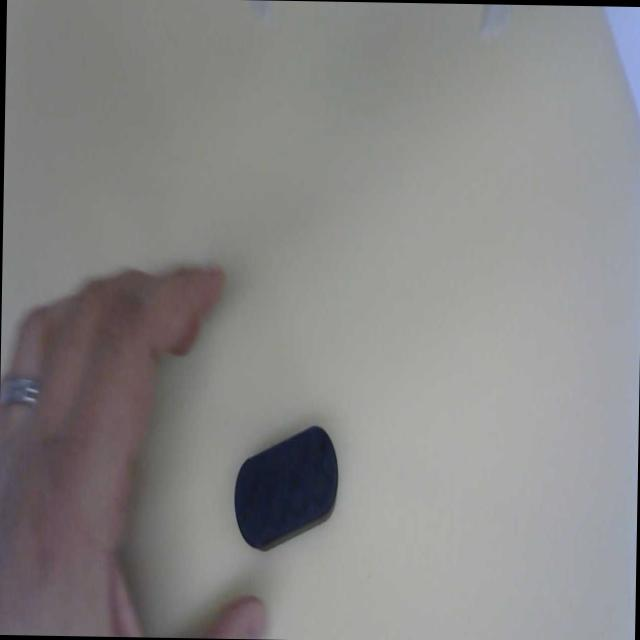oval: (229, 415, 342, 556)
